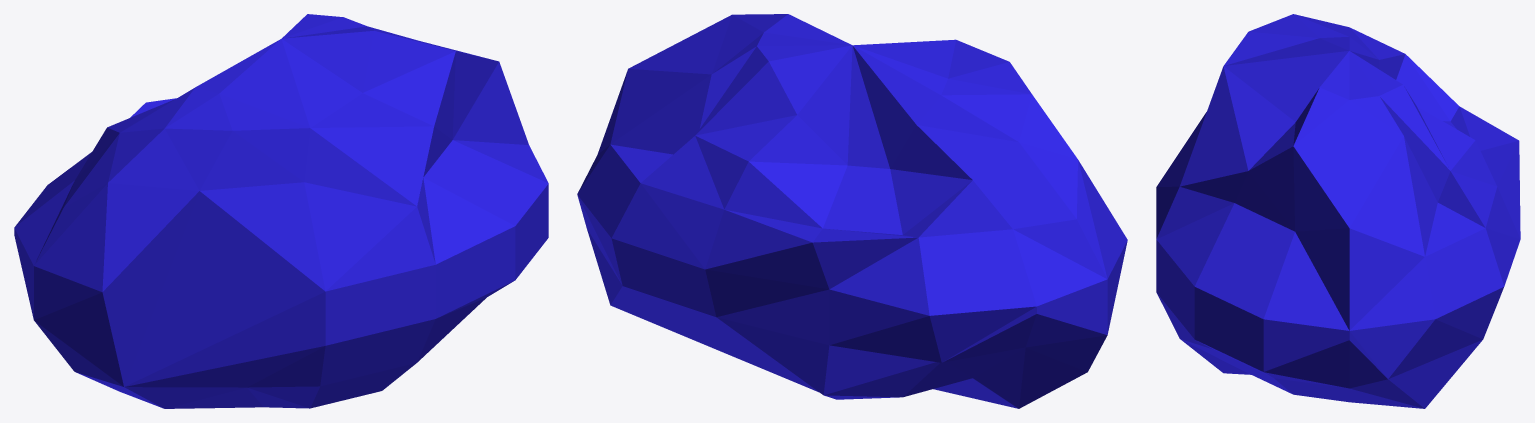
Rendered from uncseraphym.dae.
3 views of the same model, side by side, from view 1: azimuth 30°, elevation 25°; view 2: azimuth 150°, elevation 25°; view 3: azimuth 270°, elevation 25° (orthographic). The views are drawn at different scales.
Visible parts, largest first — view 1: Sphere; view 2: Sphere; view 3: Sphere.
Boxes of the visible parts, x1,y1,x2,y2 form: Sphere: [14, 14, 548, 408]; Sphere: [577, 14, 1127, 408]; Sphere: [1156, 14, 1520, 408].
Bounding box in the file's own units: 0.3126 × 0.2044 × 0.1911.
